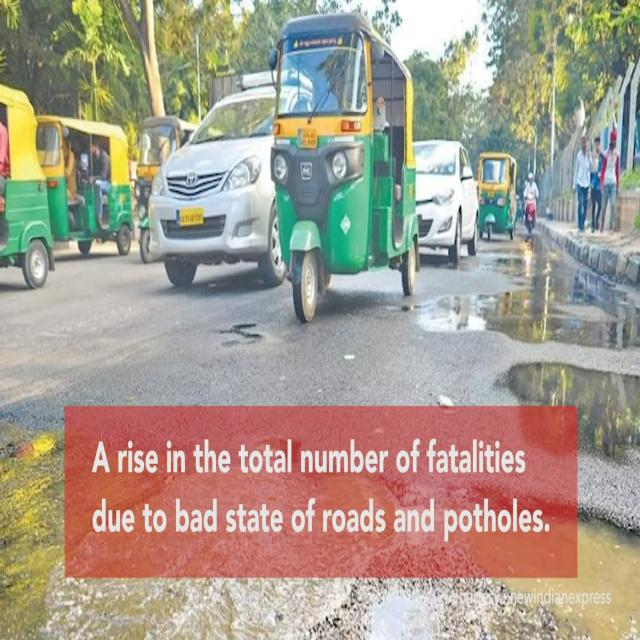potholes: (468, 497, 640, 639), (505, 365, 637, 465), (0, 431, 65, 463), (217, 319, 265, 349)
